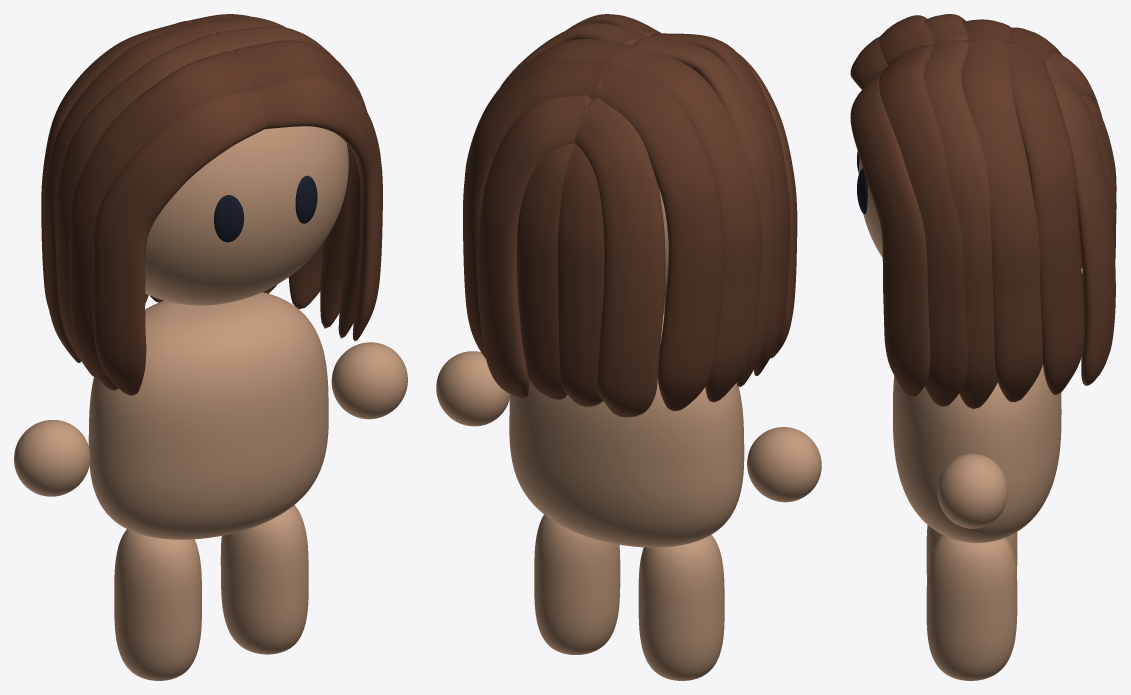
The model's file is Feminine-skin2.glb.
3 views of the same model, side by side, from view 1: azimuth 30°, elevation 25°; view 2: azimuth 150°, elevation 25°; view 3: azimuth 270°, elevation 25° (orthographic). The views are drawn at different scales.
Parts seen in each view (by area): view 1: Skin / compact torso with skirt outline, Skin / soft oval head, Hair / Straight -1 0, Hair / Straight -1 1, Skin / leg -1, Skin / leg 1, Hair / Straight 1 0, Hair / Straight -1 2, Hair / Straight 1 1, Hair / Straight -1 3, Skin / hand 1, Skin / hand -1 (+5 smaller); view 2: Skin / compact torso with skirt outline, Hair / Straight -1 4, Hair / Straight -1 5, Hair / Straight -1 3, Hair / Straight 1 5, Skin / leg -1, Hair / Straight -1 6, Skin / leg 1, Hair / Straight 1 6, Hair / Straight 1 4, Hair / Straight -1 2, Hair / Straight -1 1 (+6 smaller); view 3: Skin / compact torso with skirt outline, Hair / Straight 1 3, Hair / Straight 1 4, Hair / Straight 1 1, Hair / Straight 1 0, Hair / Straight 1 2, Skin / leg 1, Hair / Straight 1 5, Skin / hand 1, Hair / Straight -1 1, Hair / Straight -1 0, Hair / Straight 1 6 (+7 smaller).
Part boxes in pixels (box(x1,y1,x2,y2)): Skin / compact torso with skirt outline: box(88, 292, 328, 539); Skin / soft oval head: box(145, 126, 348, 305); Hair / Straight -1 0: box(93, 90, 266, 395); Hair / Straight -1 1: box(69, 51, 254, 390); Skin / leg -1: box(114, 529, 201, 680); Skin / leg 1: box(220, 505, 308, 654); Hair / Straight 1 0: box(254, 77, 382, 341); Hair / Straight -1 2: box(55, 34, 231, 378); Hair / Straight 1 1: box(233, 40, 366, 338); Hair / Straight -1 3: box(43, 22, 214, 362); Skin / hand 1: box(331, 342, 407, 419); Skin / hand -1: box(14, 420, 90, 496); Skin / compact torso with skirt outline: box(509, 314, 744, 547); Hair / Straight -1 4: box(591, 65, 723, 411); Hair / Straight -1 5: box(575, 97, 665, 417); Hair / Straight -1 3: box(609, 44, 761, 402); Hair / Straight 1 5: box(477, 95, 591, 397); Skin / leg -1: box(638, 534, 724, 680); Hair / Straight -1 6: box(557, 143, 604, 406); Skin / leg 1: box(534, 514, 620, 654); Hair / Straight 1 6: box(517, 143, 574, 399); Hair / Straight 1 4: box(463, 61, 609, 358); Hair / Straight -1 2: box(633, 36, 777, 386); Hair / Straight -1 1: box(650, 33, 790, 375); Skin / compact torso with skirt outline: box(893, 364, 1061, 542); Hair / Straight 1 3: box(962, 38, 1042, 402); Hair / Straight 1 4: box(1007, 46, 1084, 394); Hair / Straight 1 1: box(879, 44, 967, 406); Hair / Straight 1 0: box(850, 67, 930, 396); Hair / Straight 1 2: box(925, 39, 997, 409); Skin / leg 1: box(926, 534, 1017, 680); Hair / Straight 1 5: box(1045, 65, 1115, 385); Skin / hand 1: box(937, 453, 1007, 528); Hair / Straight -1 1: box(879, 15, 933, 65); Hair / Straight -1 0: box(850, 37, 888, 89); Hair / Straight 1 6: box(1083, 100, 1116, 259).
Size of the model in its own units: 1.49 by 2.33 by 0.9212.
